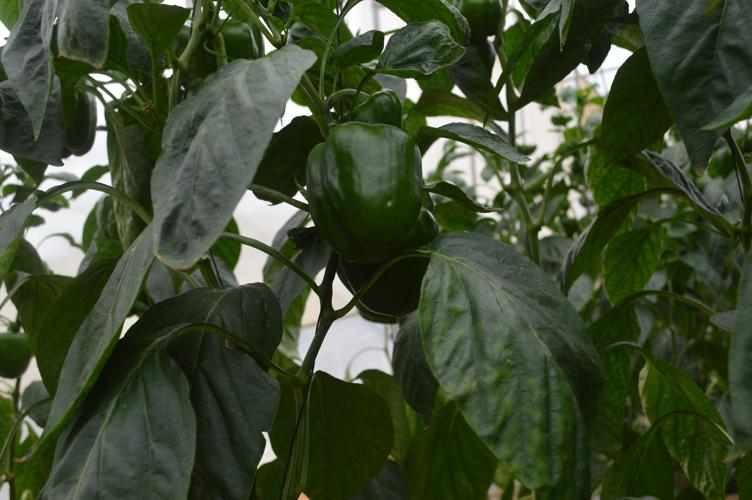BellPepper: (303, 118, 427, 259), (329, 218, 457, 321)
